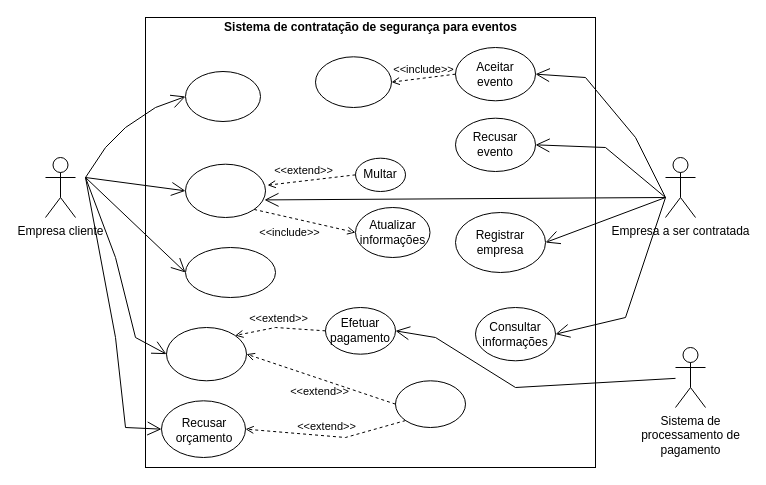
This 766x485 diagram has some shape labels left out. Here are the shapes that lost their labels. From the top down, the centre of each, then its label:
the point at 222,96: Registrar evento
the point at 353,82: Propor orçamento
the point at 225,190: Cancelar evento
the point at 230,272: Consultar avaliações da empresa
the point at 206,353: Aceitar orçamento
the point at 430,404: Negociar orçamento
